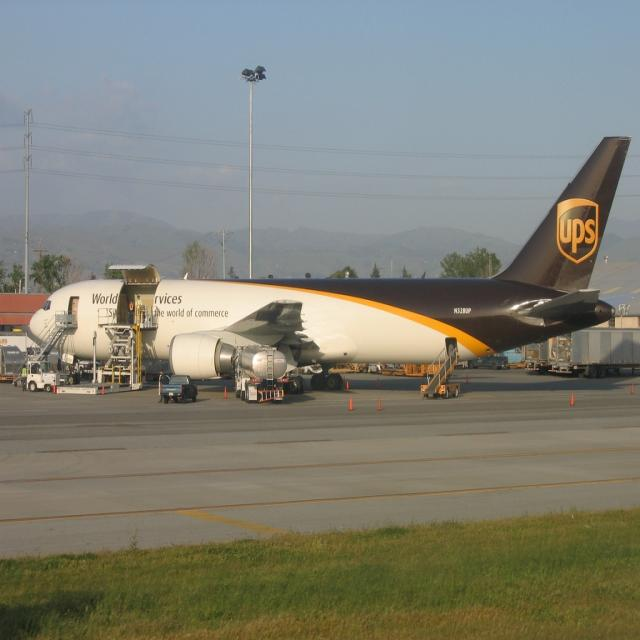ups: (557, 199, 600, 265)
